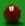brown: (0, 0, 25, 26)
